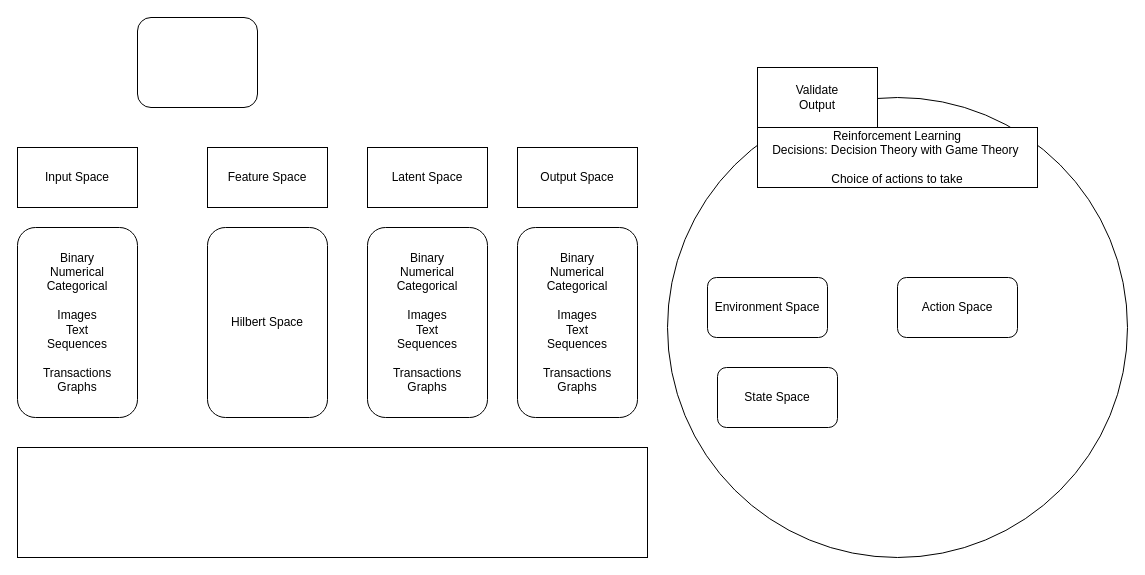
This 1145x575 diagram has some shape labels left out. The centre of each missing label's shape, as x and y in pixels:
"Embedding Space" belongs at (197,62).
"Knowledge Space" belongs at (332,502).
